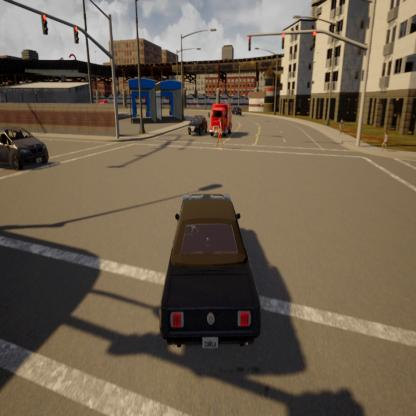Cars: (156, 173, 264, 372), (0, 100, 52, 186), (210, 94, 236, 152), (190, 100, 209, 149)
Pedestrian: (334, 107, 347, 152), (376, 126, 390, 164), (215, 110, 225, 157)
